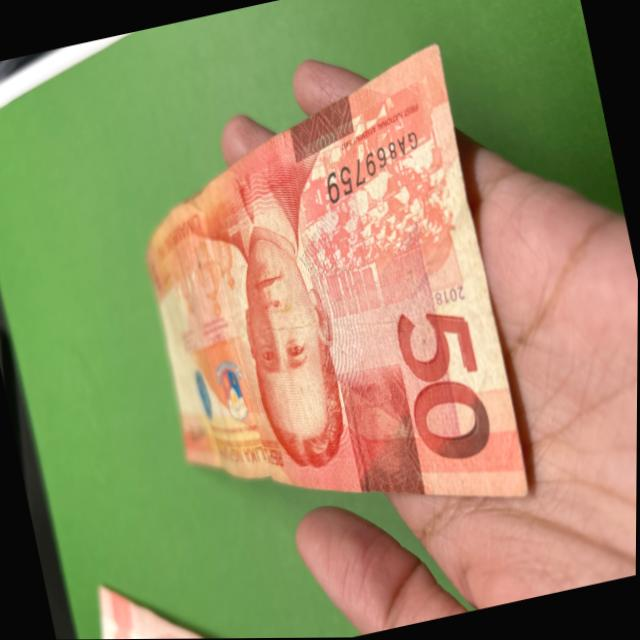concealed_value: (331, 349, 426, 509)
serial_number: (312, 123, 443, 212)
value: (390, 297, 509, 485)
